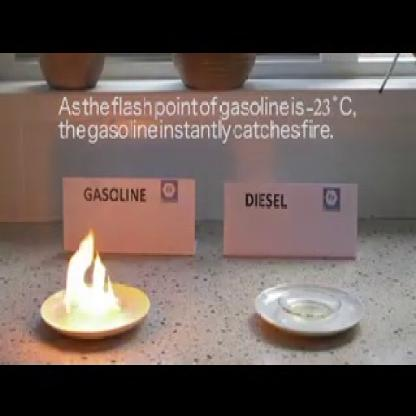fire: (49, 225, 132, 333)
